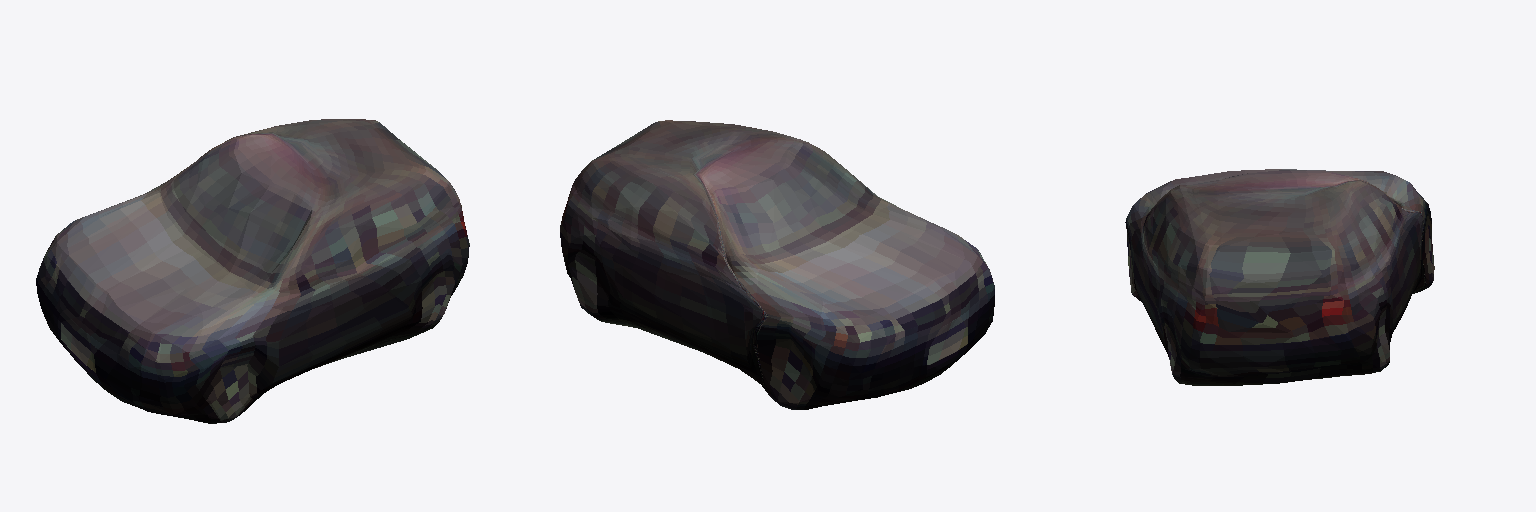
3 renders of one model, left to right at view 1: azimuth 30°, elevation 25°; view 2: azimuth 150°, elevation 25°; view 3: azimuth 270°, elevation 25°, orthographic.
Size of the model in its own units: 1 by 0.4904 by 0.7386.
Materials: 1 (1 with a texture image).